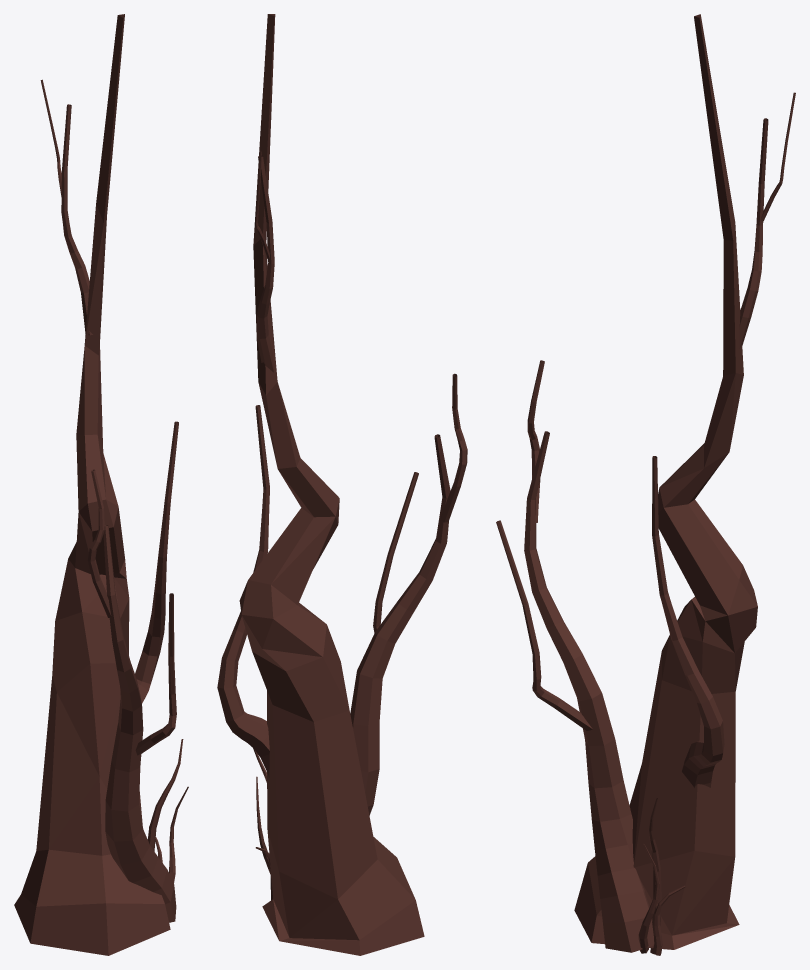
Rendered from small-tree_3.fbx.
3 renders of one model, left to right at view 1: azimuth 30°, elevation 25°; view 2: azimuth 150°, elevation 25°; view 3: azimuth 270°, elevation 25°, orthographic. The views are drawn at different scales.
Visible parts, largest first — view 1: tree 1.022; view 2: tree 1.022; view 3: tree 1.022.
Part boxes in pixels (x1=…): tree 1.022: x1=14, y1=14, x2=188, y2=955; tree 1.022: x1=217, y1=14, x2=467, y2=955; tree 1.022: x1=496, y1=14, x2=795, y2=955.
Size of the model in its own units: 1.73 by 8.9 by 2.59.
